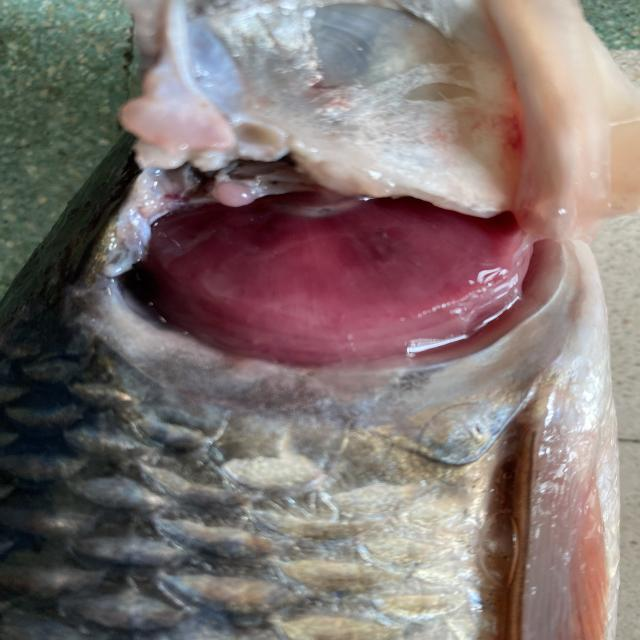Fresh: (88, 152, 559, 362)
